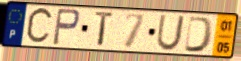7: (123, 12, 146, 50)
C: (24, 6, 55, 47)
D: (182, 15, 215, 54)
P: (51, 7, 82, 48)
T: (93, 10, 116, 49)
U: (155, 14, 187, 53)
